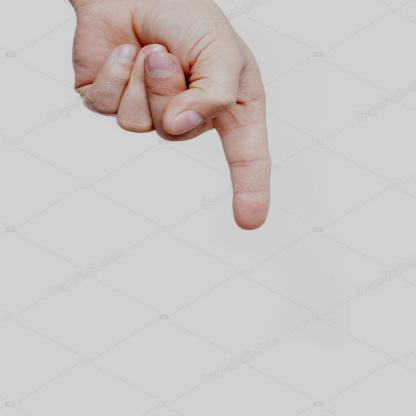Down: (51, 0, 311, 241)
